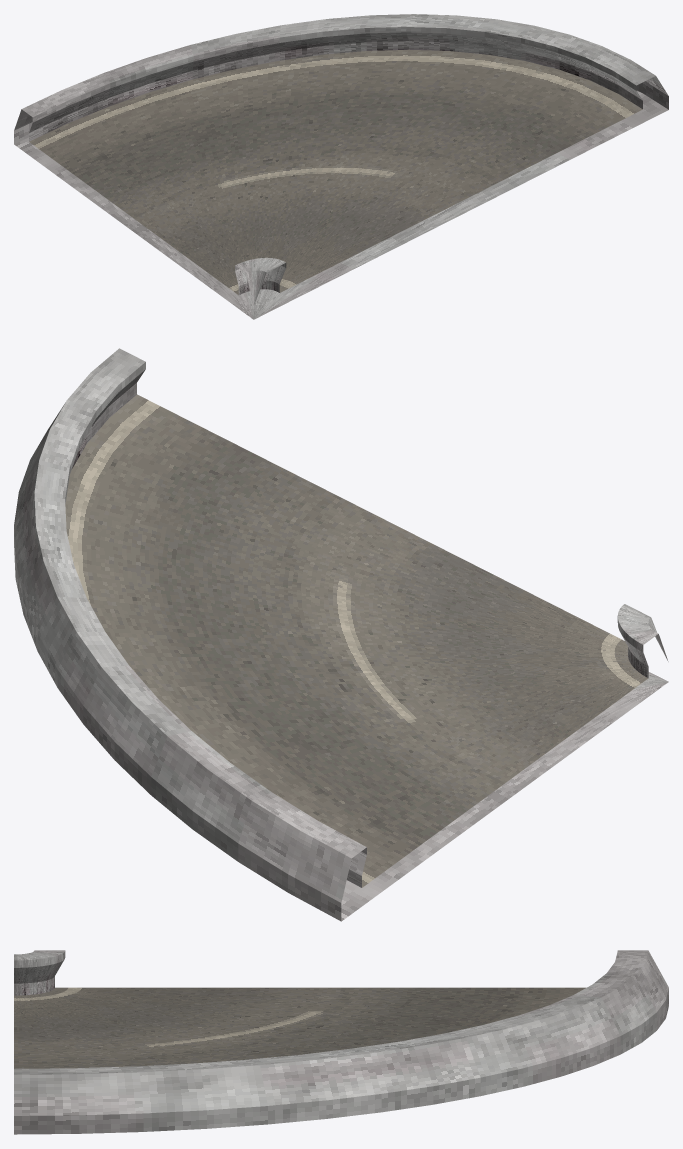
Rendered from road-Turn-HalfBankedLeft-BiSlopeDown-Even-Left-Size1.glb.
The picture shows the model from 3 angles, top to bottom: view 1: azimuth 30°, elevation 25°; view 2: azimuth 150°, elevation 25°; view 3: azimuth 270°, elevation 25°; orthographic projection. The views are drawn at different scales.
Parts seen in each view (by area): view 1: road-Turn-HalfBankedLeft-BiSlopeDown-Even-Left-Size1; view 2: road-Turn-HalfBankedLeft-BiSlopeDown-Even-Left-Size1; view 3: road-Turn-HalfBankedLeft-BiSlopeDown-Even-Left-Size1.
Boxes of the visible parts, left/top/right/bottom form: road-Turn-HalfBankedLeft-BiSlopeDown-Even-Left-Size1: left=14, top=14, right=668, bottom=319; road-Turn-HalfBankedLeft-BiSlopeDown-Even-Left-Size1: left=14, top=348, right=668, bottom=921; road-Turn-HalfBankedLeft-BiSlopeDown-Even-Left-Size1: left=14, top=950, right=668, bottom=1134.
Size of the model in its own units: 1 by 0.3359 by 1.
2 materials, 2 textured.
